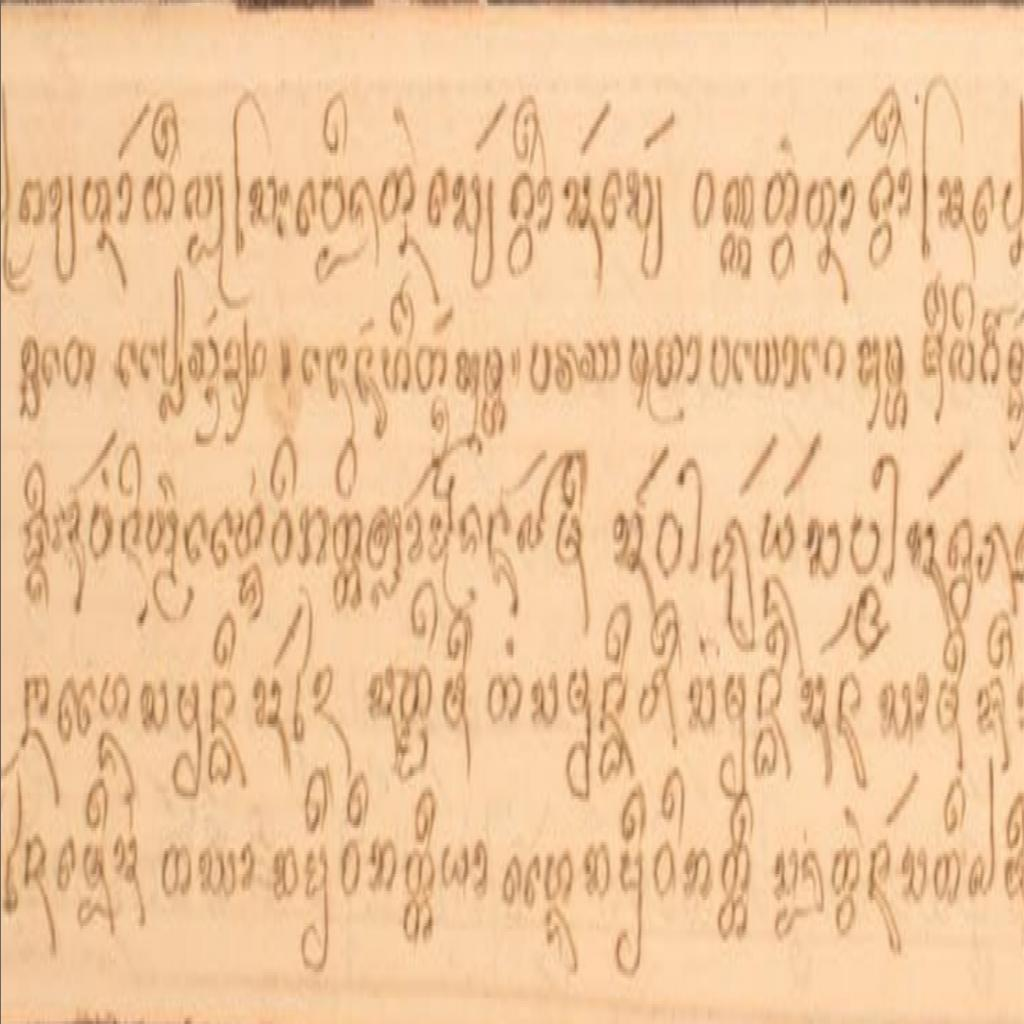LN014: (299, 840, 332, 982)
